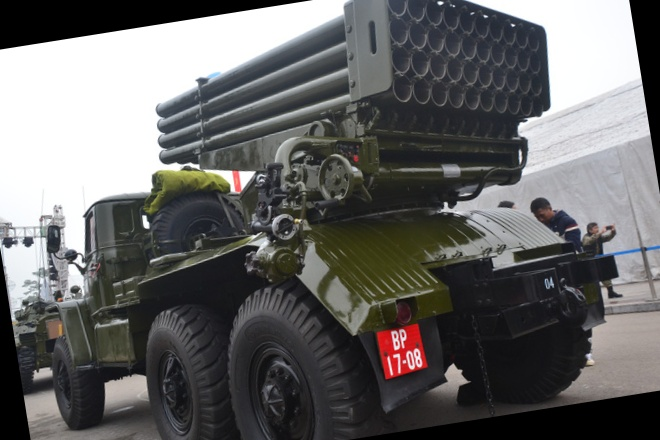plate: (372, 325, 431, 378)
